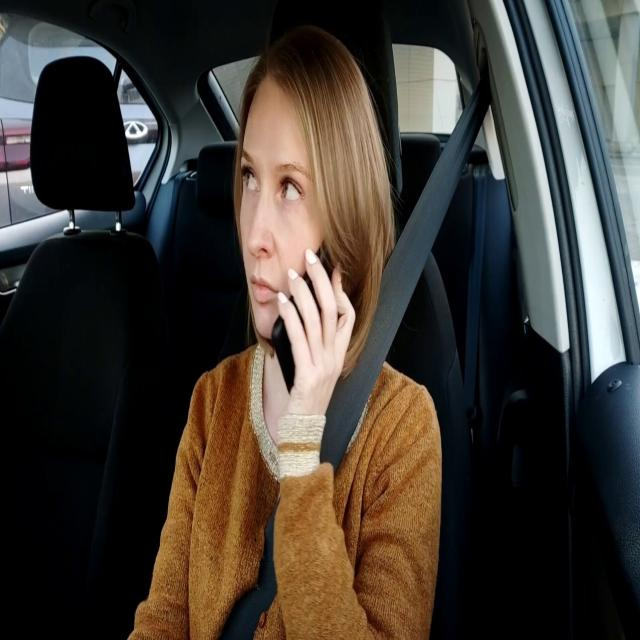phone: (270, 234, 350, 397)
